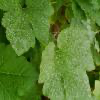Squash Powdery mildew leaf: (37, 27, 95, 99), (1, 0, 55, 54)
